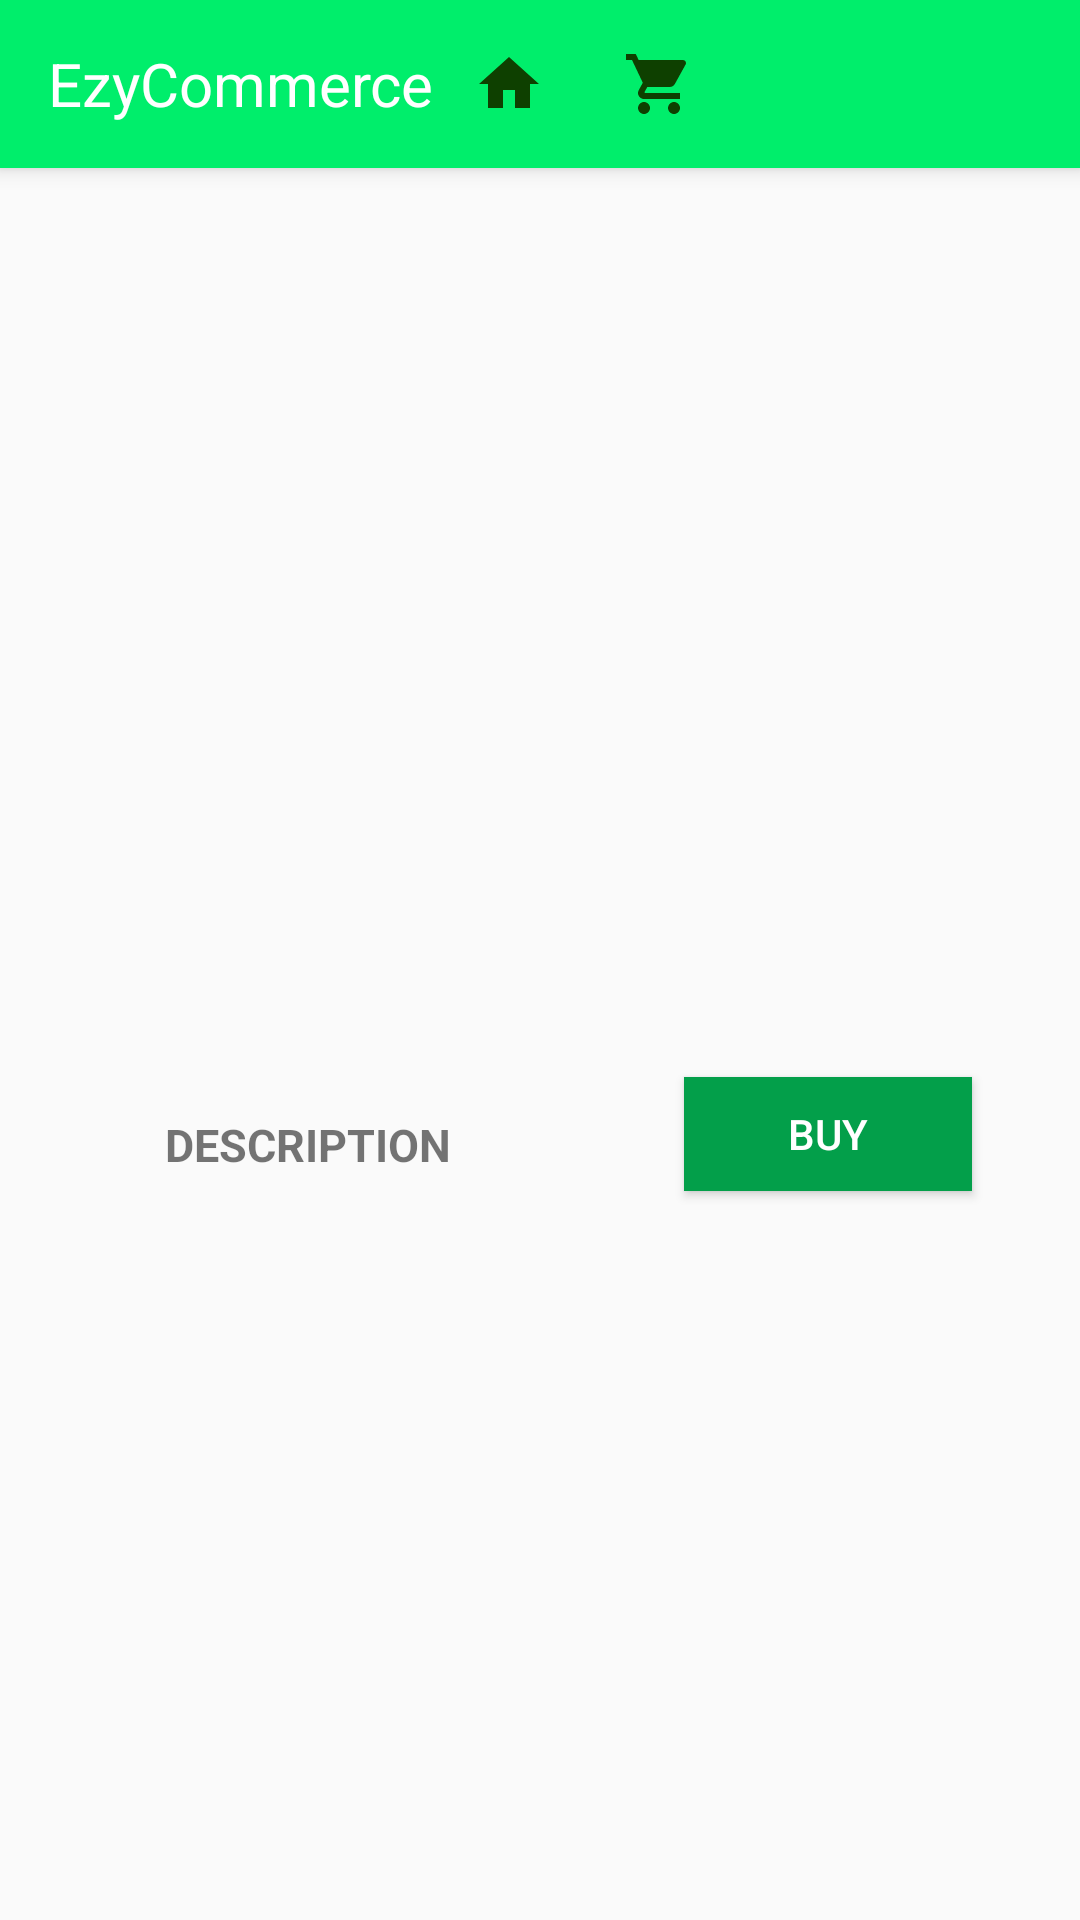

Locate icon controls on the screen. Image size 1080px×1920px, boxes as (x1, y1, x2, y2).
cart: (626, 54, 686, 114)
home: (479, 57, 539, 108)
